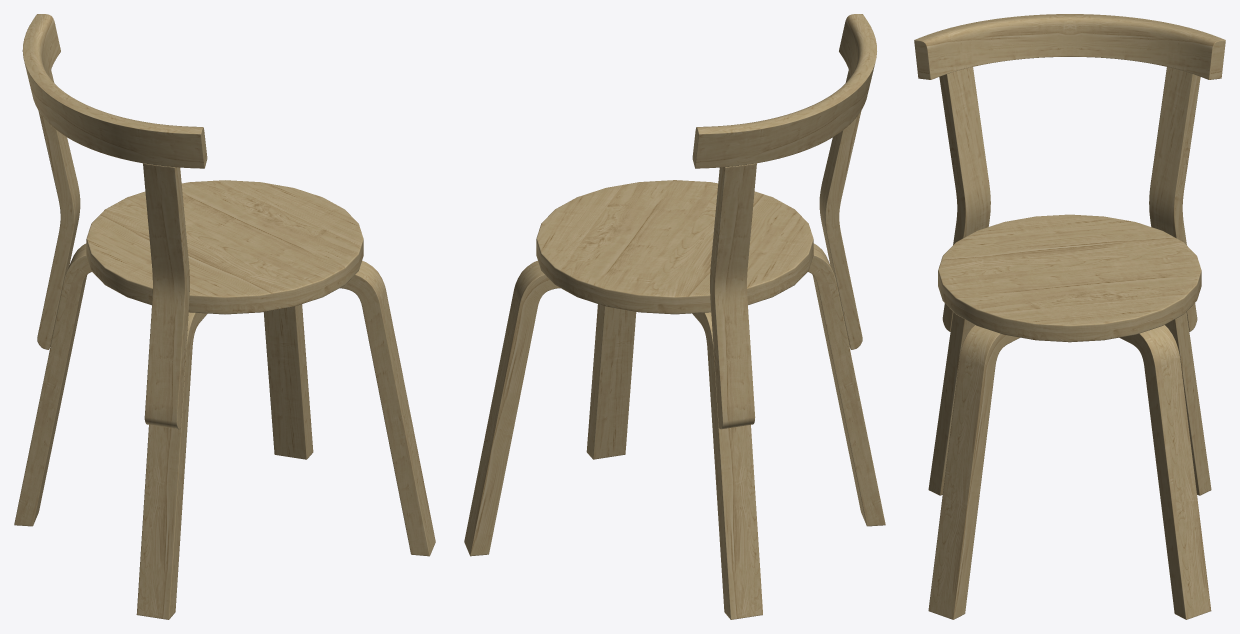
3 renders of one model, left to right at view 1: azimuth 30°, elevation 25°; view 2: azimuth 150°, elevation 25°; view 3: azimuth 270°, elevation 25°, orthographic. The views are drawn at different scales.
Visible parts, largest first — view 1: AM121_015_00; view 2: AM121_015_00; view 3: AM121_015_00.
Boxes of the visible parts, bbox=[...] form: AM121_015_00: bbox=[14, 14, 435, 619]; AM121_015_00: bbox=[464, 14, 885, 619]; AM121_015_00: bbox=[914, 14, 1225, 619].
Size of the model in its own units: 28.28 by 40.67 by 24.82.
1 material, 1 textured.
